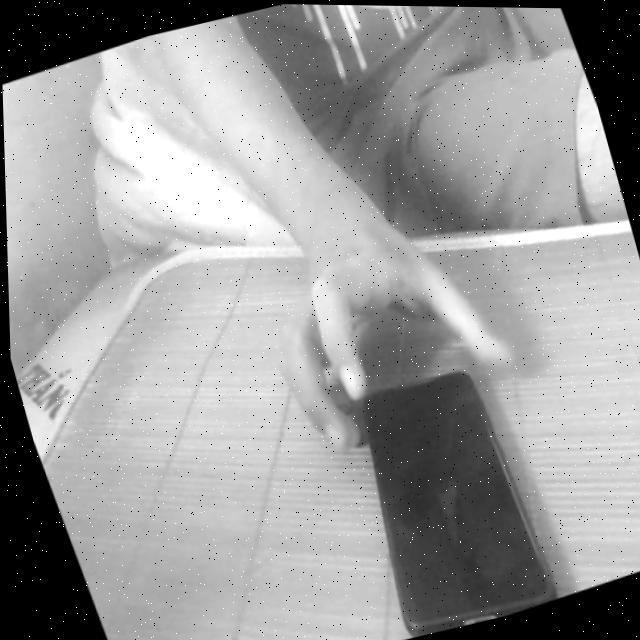phone: (292, 307, 582, 640)
